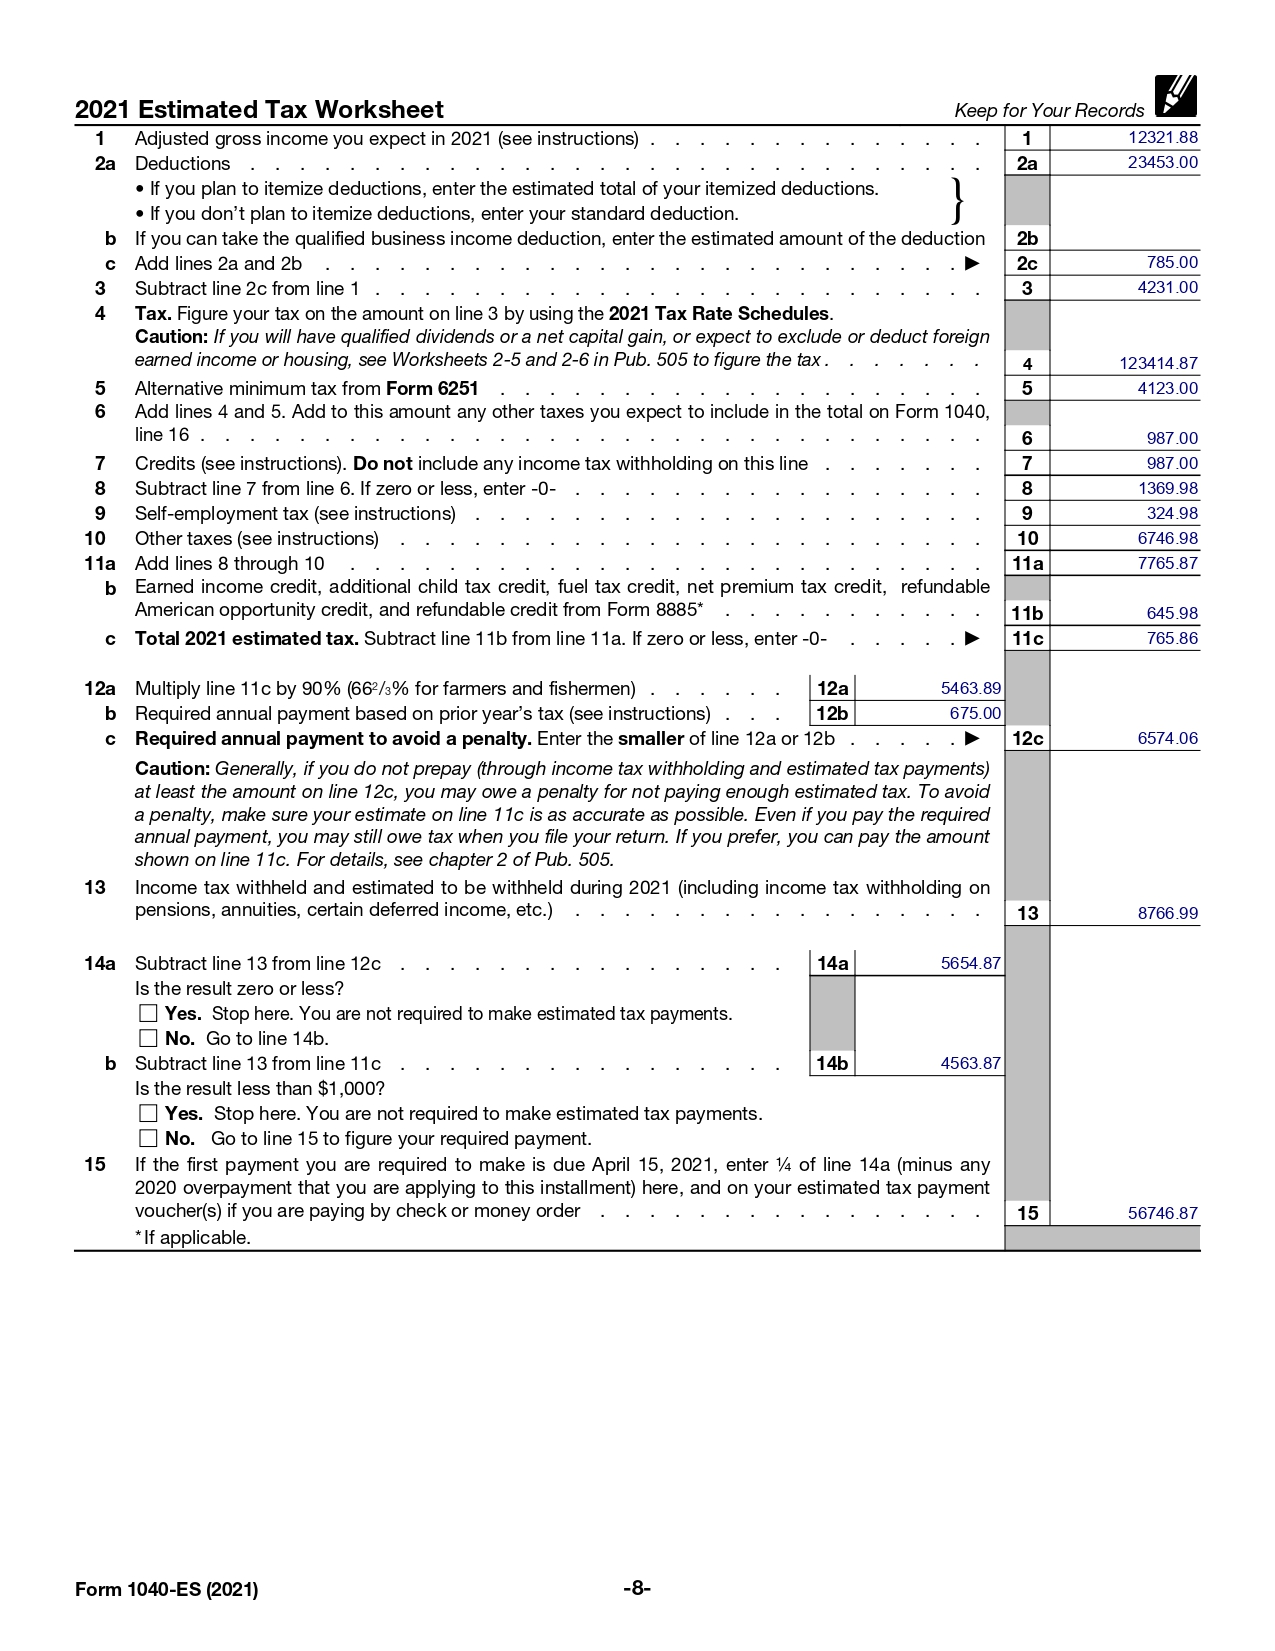table: (70, 122, 1216, 1273)
